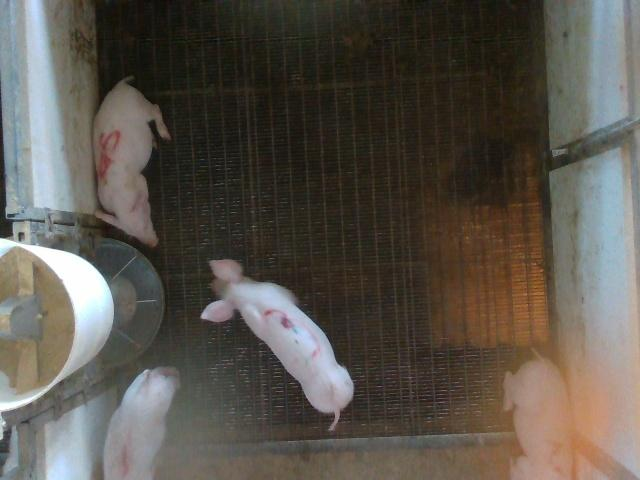pig-1: (104, 368, 180, 479)
pig-2: (201, 260, 354, 431), (504, 352, 571, 478)
pig-5: (92, 76, 170, 247)
